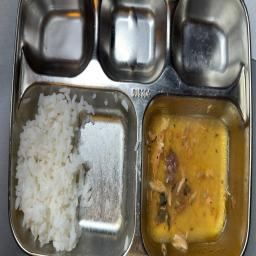50_rice: (18, 84, 127, 250)
empty: (149, 105, 234, 241), (102, 1, 157, 78), (176, 9, 236, 79), (31, 0, 88, 71)
